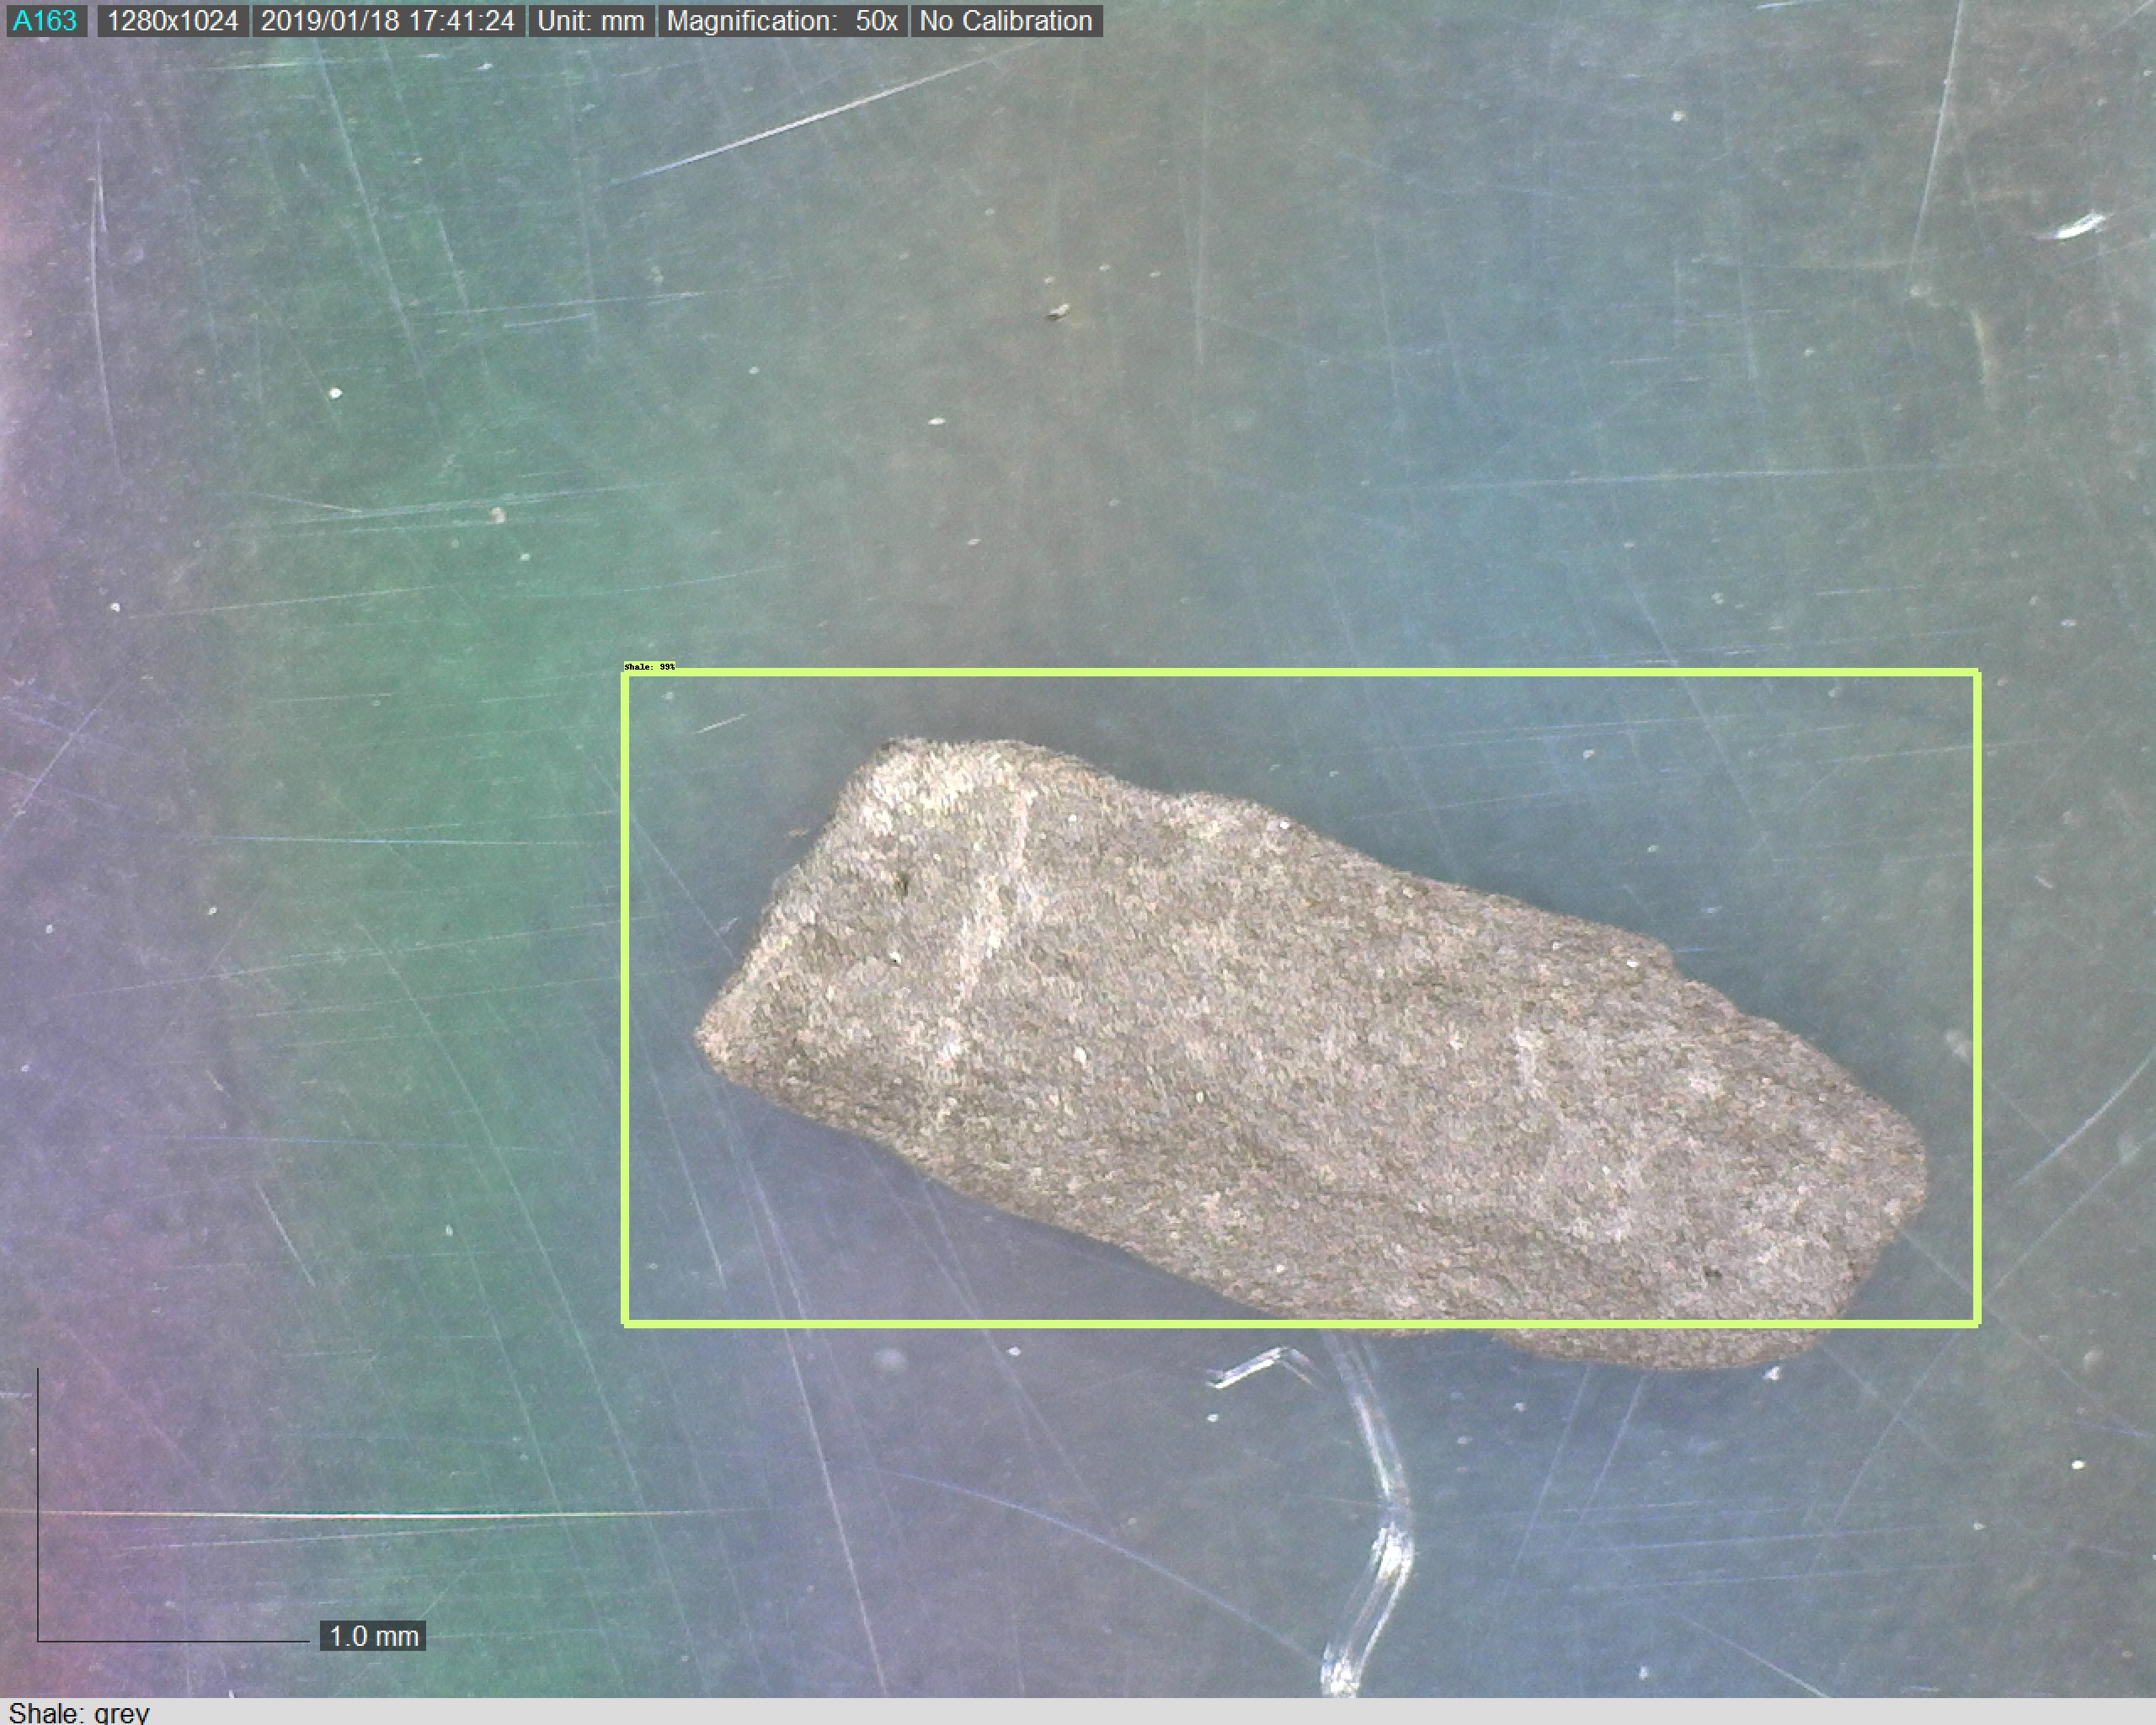Shale: (660, 723, 1950, 1405)
